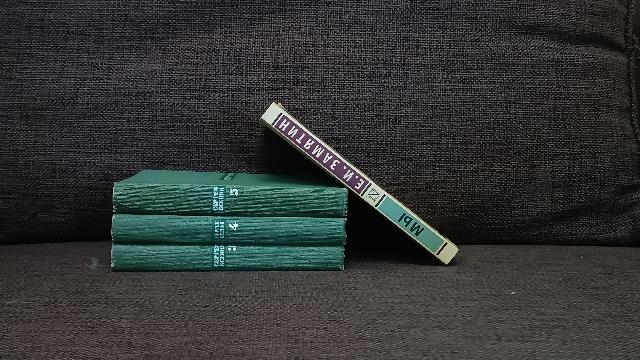book-s-spine: (261, 103, 458, 265), (113, 184, 347, 218), (111, 215, 346, 245), (112, 246, 344, 272)
